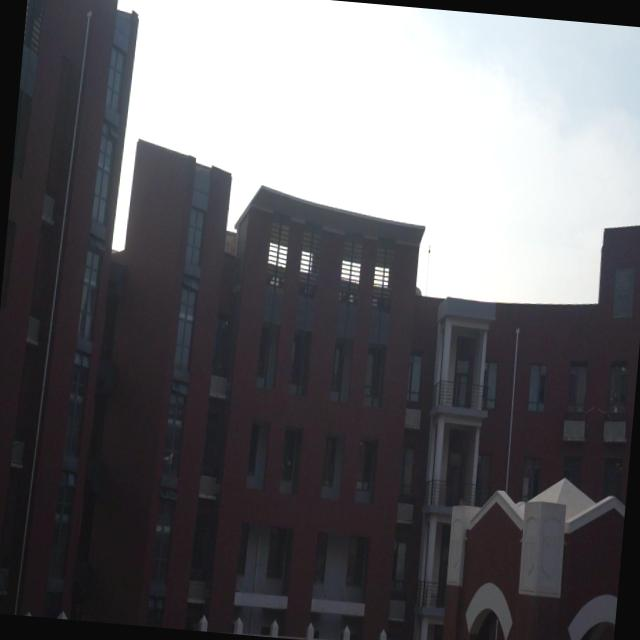drone: (162, 447, 176, 468)
